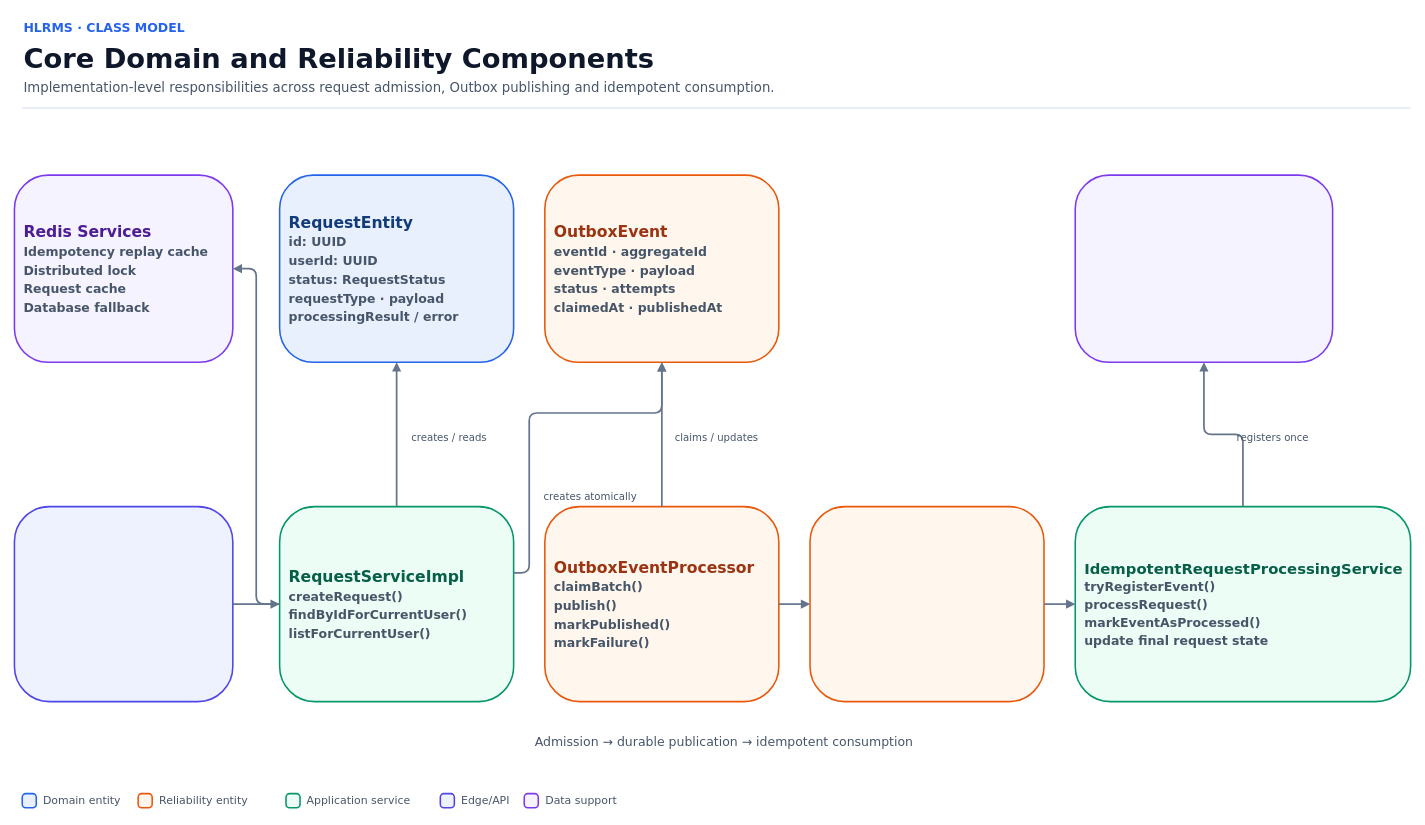
Image size: 1425x825. Some labels were removed from this diagram. The shapes that lost their labels are listed below. From the top down, each one's box as (x1, y1, x2, y2) in pixels, then its label:
(1074, 174, 1333, 363): ProcessedEvent eventId: UUID requestId: UUID eventType · version processedAt
(13, 505, 233, 702): RequestController createRequest() getRequest() listOwnRequests()
(809, 505, 1044, 702): RequestCreatedEvent eventId · requestId eventType · version occurredAt
